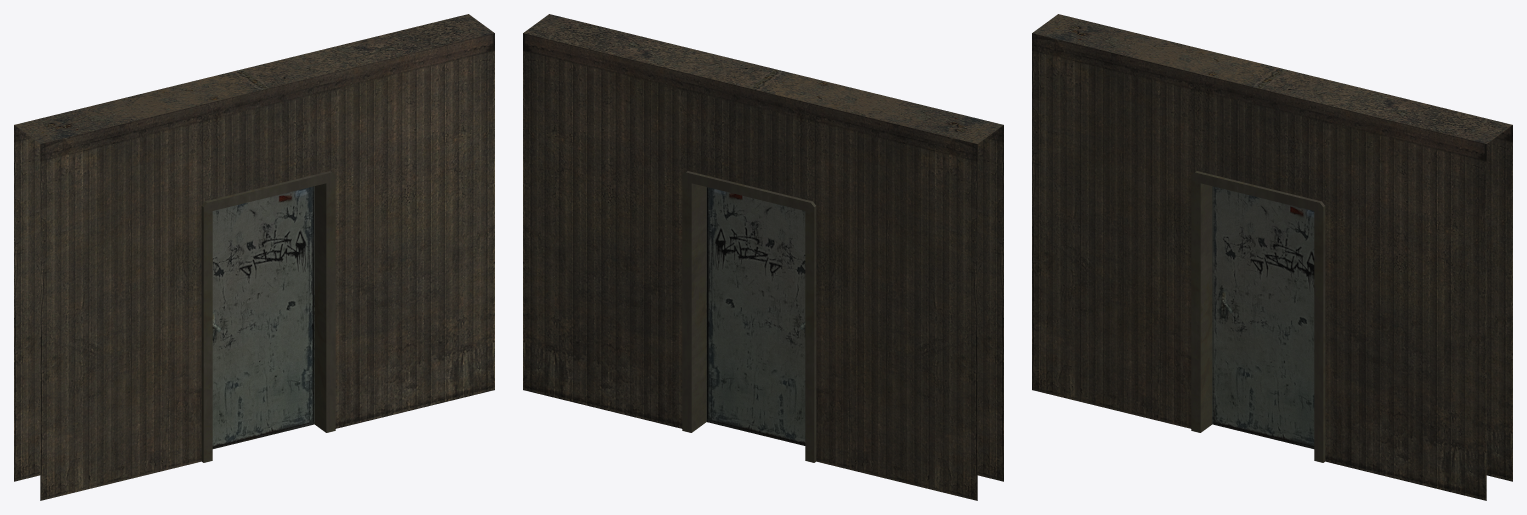
File: doorway_rx_1.dae
3 views of the same model, side by side, from view 1: azimuth 30°, elevation 25°; view 2: azimuth 150°, elevation 25°; view 3: azimuth 330°, elevation 25° (orthographic).
Visible parts, largest first — view 1: doorway_rx_1, door_hr_11; view 2: doorway_rx_1, door_hr_11; view 3: doorway_rx_1, door_hr_11.
Part boxes in pixels (x1,y1,x2,y2): doorway_rx_1: [14, 14, 494, 500]; door_hr_11: [212, 186, 314, 448]; doorway_rx_1: [523, 14, 1003, 500]; door_hr_11: [706, 187, 805, 445]; doorway_rx_1: [1032, 14, 1512, 500]; door_hr_11: [1212, 186, 1314, 448].
Size of the model in its own units: 4 by 0.46 by 3.
4 materials, 4 textured.
